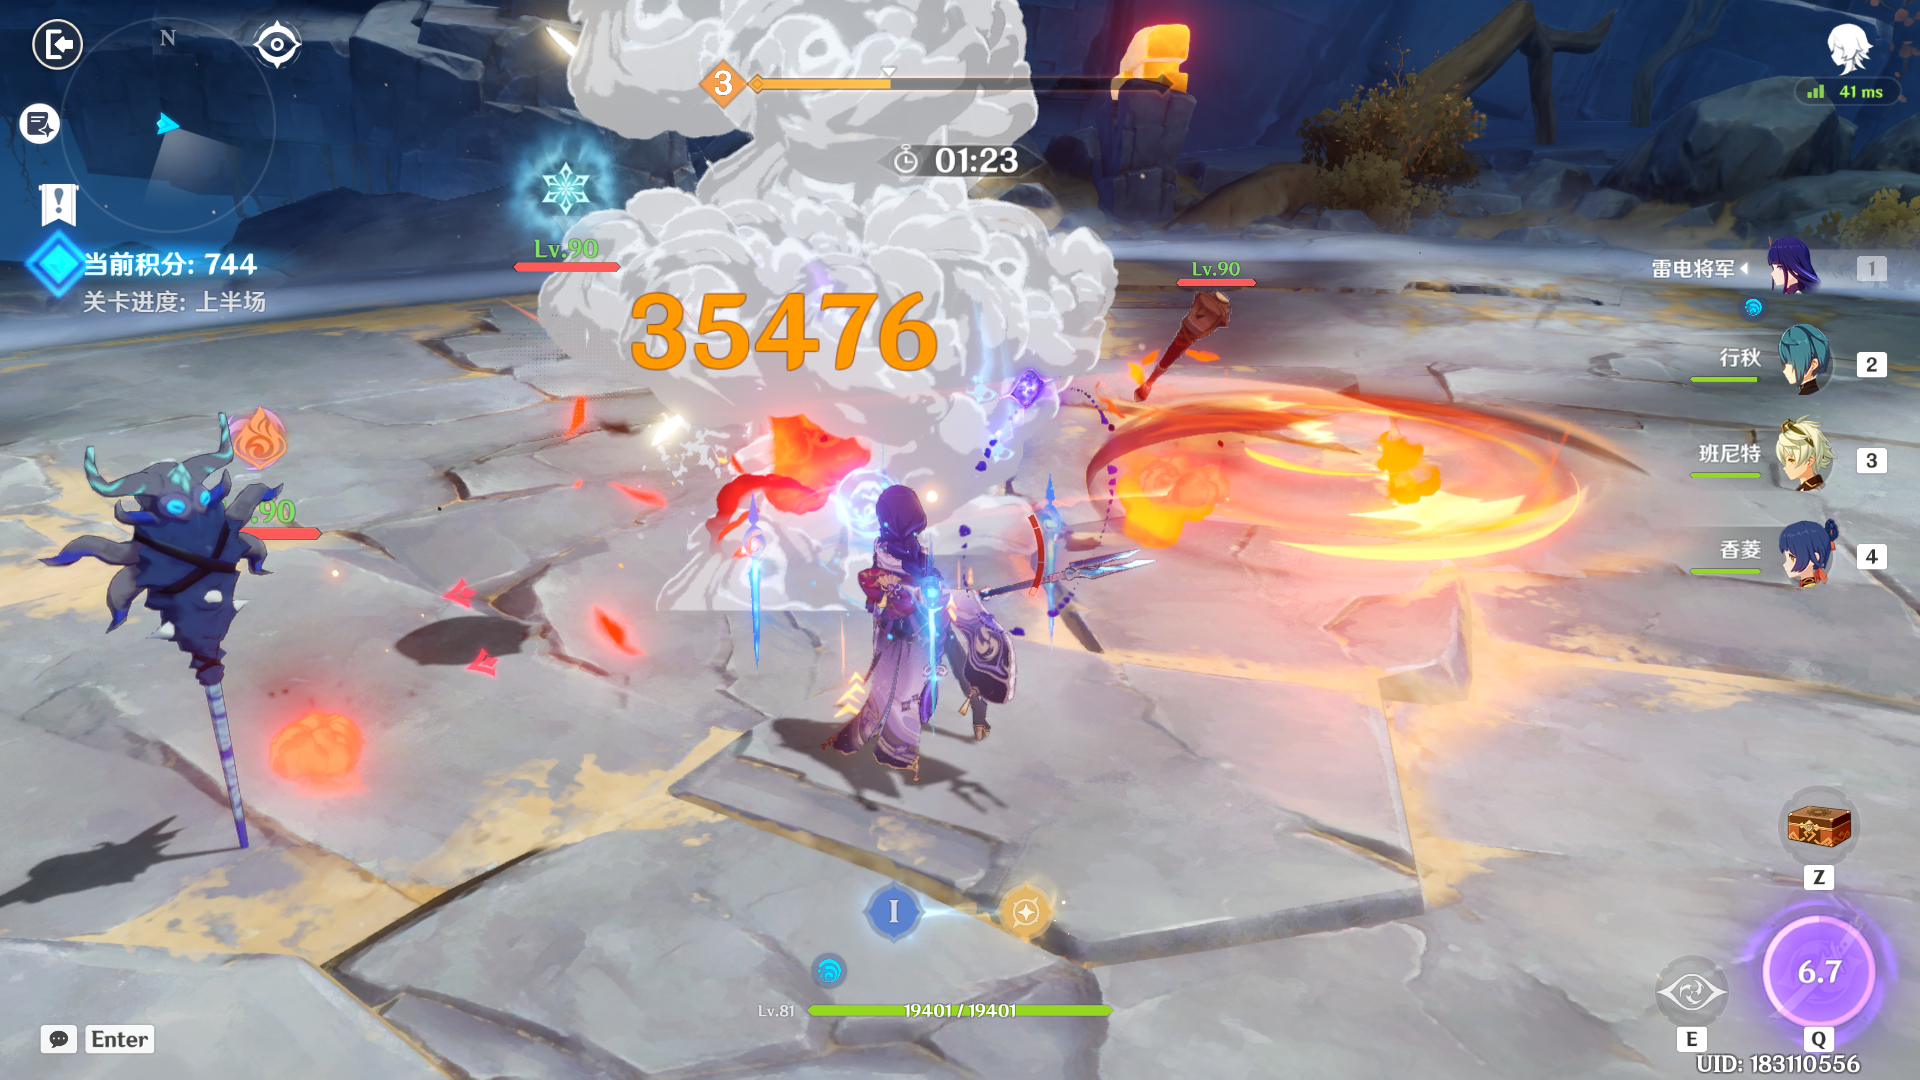character: (798, 454, 1062, 877)
